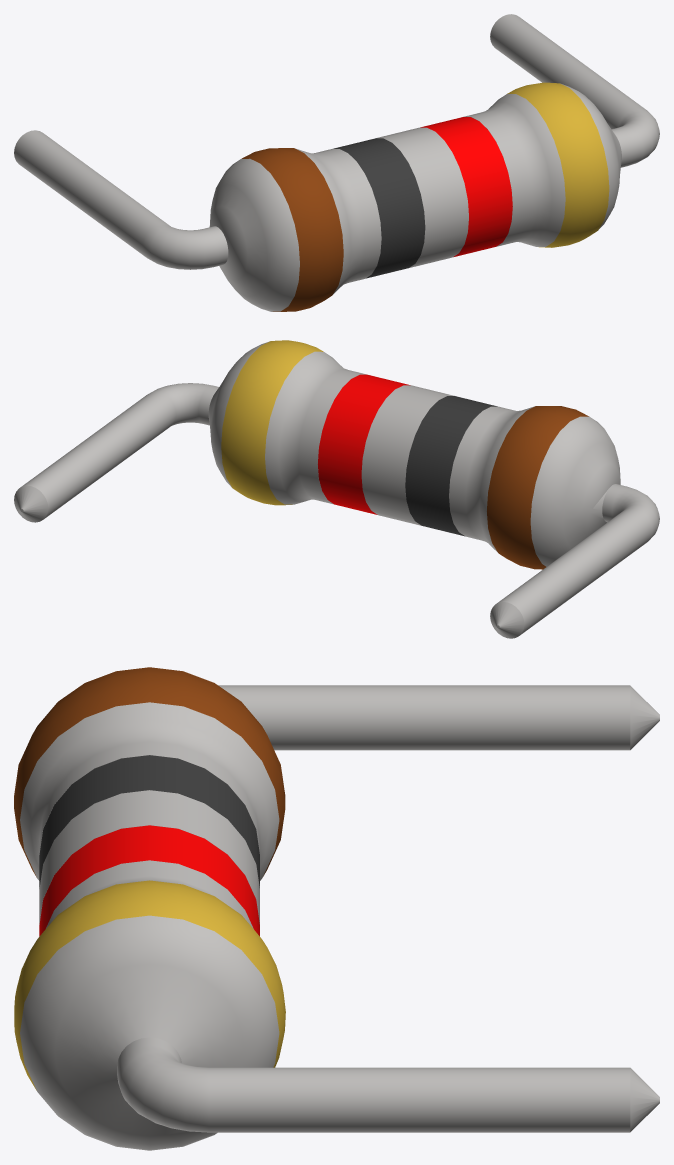
File: R 1K prueba.fbx
3 views of the same model, one above another, from view 1: azimuth 30°, elevation 25°; view 2: azimuth 150°, elevation 25°; view 3: azimuth 270°, elevation 25° (orthographic). The views are drawn at different scales.
Parts seen in each view (by area): view 1: Body1; view 2: Body1; view 3: Body1.
Boxes of the visible parts, bbox=[...] form: Body1: bbox=[14, 14, 659, 311]; Body1: bbox=[14, 340, 659, 638]; Body1: bbox=[14, 667, 659, 1150].
Bounding box in the file's own units: 8.17 × 2.29 × 5.44.
